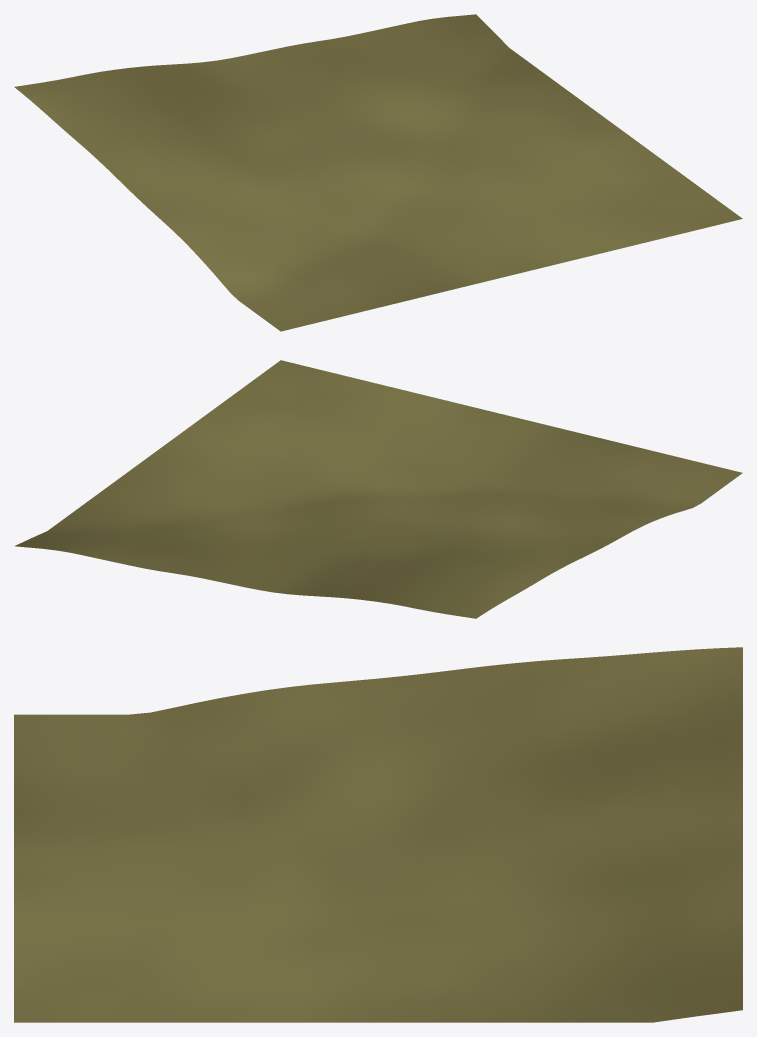
File: terrain_lod0_2_2.obj
3 views of the same model, one above another, from view 1: azimuth 30°, elevation 25°; view 2: azimuth 150°, elevation 25°; view 3: azimuth 270°, elevation 25° (orthographic). The views are drawn at different scales.
Visible parts, largest first — view 1: terrain_lod0_2_2; view 2: terrain_lod0_2_2; view 3: terrain_lod0_2_2.
Part boxes in pixels (x1,y1,x2,y2): terrain_lod0_2_2: [14, 14, 742, 331]; terrain_lod0_2_2: [14, 360, 742, 618]; terrain_lod0_2_2: [14, 647, 742, 1022].
Bounding box in the file's own units: 64 × 6.54 × 64.
